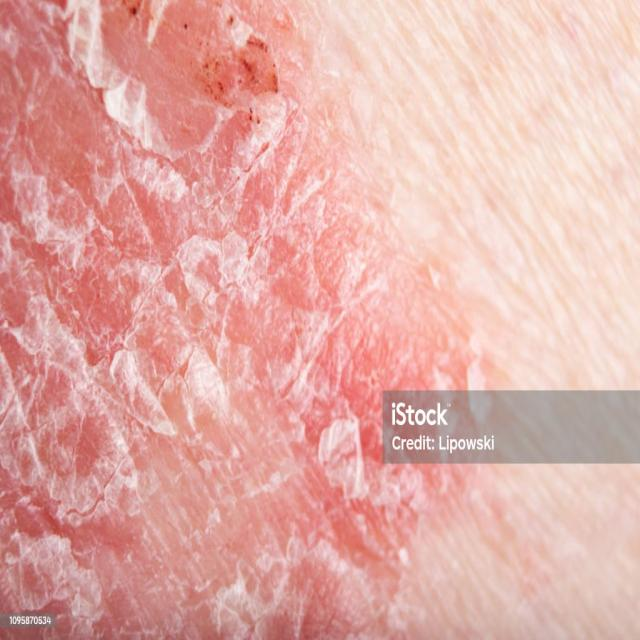Dry-Skin: (22, 66, 271, 384), (333, 28, 614, 257), (364, 178, 536, 532), (47, 420, 315, 640)
